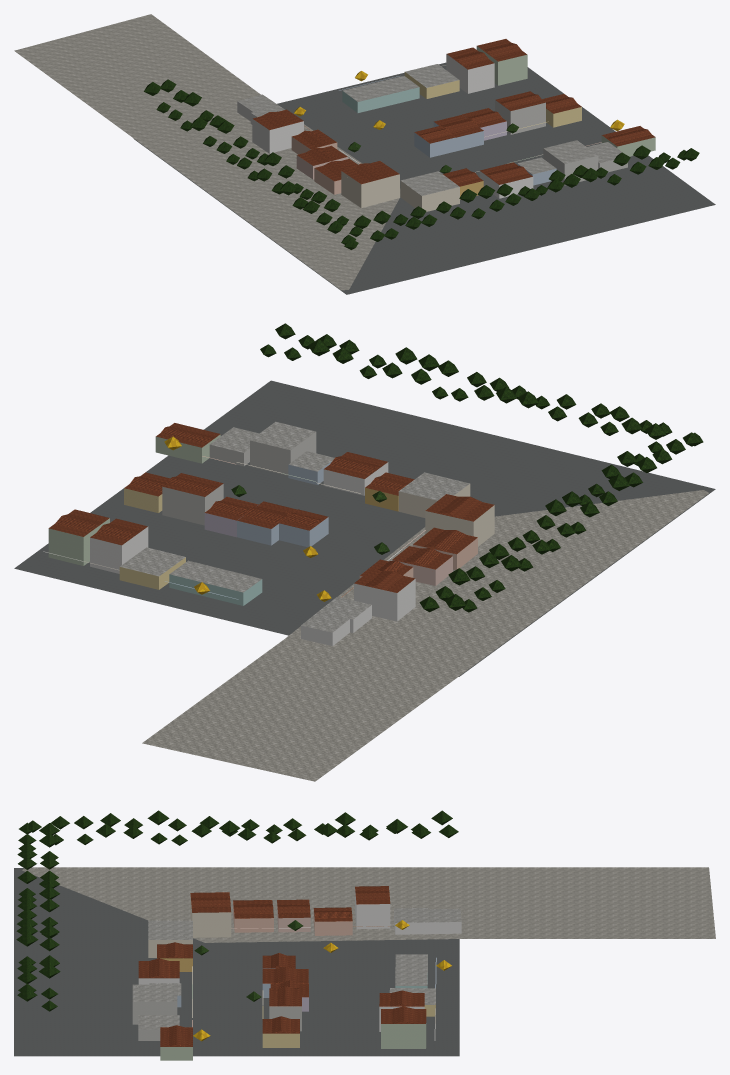
Rendered from cidade_S00_00_lod.gltf.
The picture shows the model from 3 angles, top to bottom: view 1: azimuth 30°, elevation 25°; view 2: azimuth 150°, elevation 25°; view 3: azimuth 270°, elevation 25°; orthographic projection. The views are drawn at different scales.
Visible parts, largest first — view 1: S00_00_Chao_LOD2, S00_00_Edificios_LOD1, S00_00_Silhueta_LOD2, S00_00_Vegetacao_LOD2; view 2: S00_00_Chao_LOD2, S00_00_Edificios_LOD1, S00_00_Silhueta_LOD2, S00_00_Vegetacao_LOD2; view 3: S00_00_Chao_LOD2, S00_00_Edificios_LOD1, S00_00_Vegetacao_LOD2, S00_00_Silhueta_LOD2.
Part boxes in pixels (left/top/right/bottom): S00_00_Chao_LOD2: left=14, top=14, right=715, bottom=294; S00_00_Edificios_LOD1: left=237, top=42, right=655, bottom=211; S00_00_Silhueta_LOD2: left=252, top=39, right=655, bottom=207; S00_00_Vegetacao_LOD2: left=144, top=71, right=699, bottom=249; S00_00_Chao_LOD2: left=14, top=380, right=715, bottom=781; S00_00_Edificios_LOD1: left=43, top=421, right=494, bottom=645; S00_00_Silhueta_LOD2: left=48, top=423, right=494, bottom=620; S00_00_Vegetacao_LOD2: left=164, top=323, right=703, bottom=612; S00_00_Chao_LOD2: left=14, top=867, right=715, bottom=1056; S00_00_Edificios_LOD1: left=132, top=890, right=461, bottom=1060; S00_00_Vegetacao_LOD2: left=16, top=810, right=458, bottom=1041; S00_00_Silhueta_LOD2: left=138, top=886, right=426, bottom=1060.
Size of the model in its own units: 103 by 15.92 by 158.
Materials: 20 (20 with a texture image).
